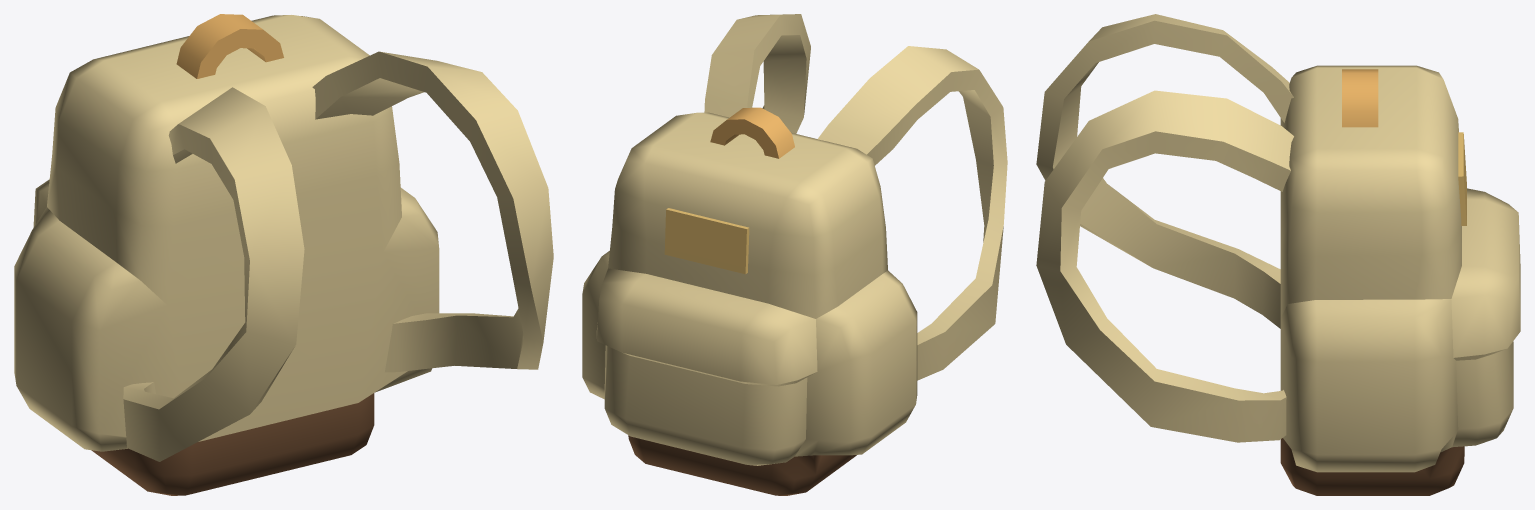
The model's file is Bag_5.fbx.
The picture shows the model from 3 angles, left to right: view 1: azimuth 30°, elevation 25°; view 2: azimuth 150°, elevation 25°; view 3: azimuth 270°, elevation 25°; orthographic projection. The views are drawn at different scales.
Parts seen in each view (by area): view 1: Bag_5; view 2: Bag_5; view 3: Bag_5.
Part boxes in pixels (x1=…): Bag_5: x1=14, y1=14, x2=553, y2=495; Bag_5: x1=582, y1=14, x2=1007, y2=495; Bag_5: x1=1036, y1=14, x2=1520, y2=495.
Bounding box in the file's own units: 45.72 × 52.7 × 57.33.
